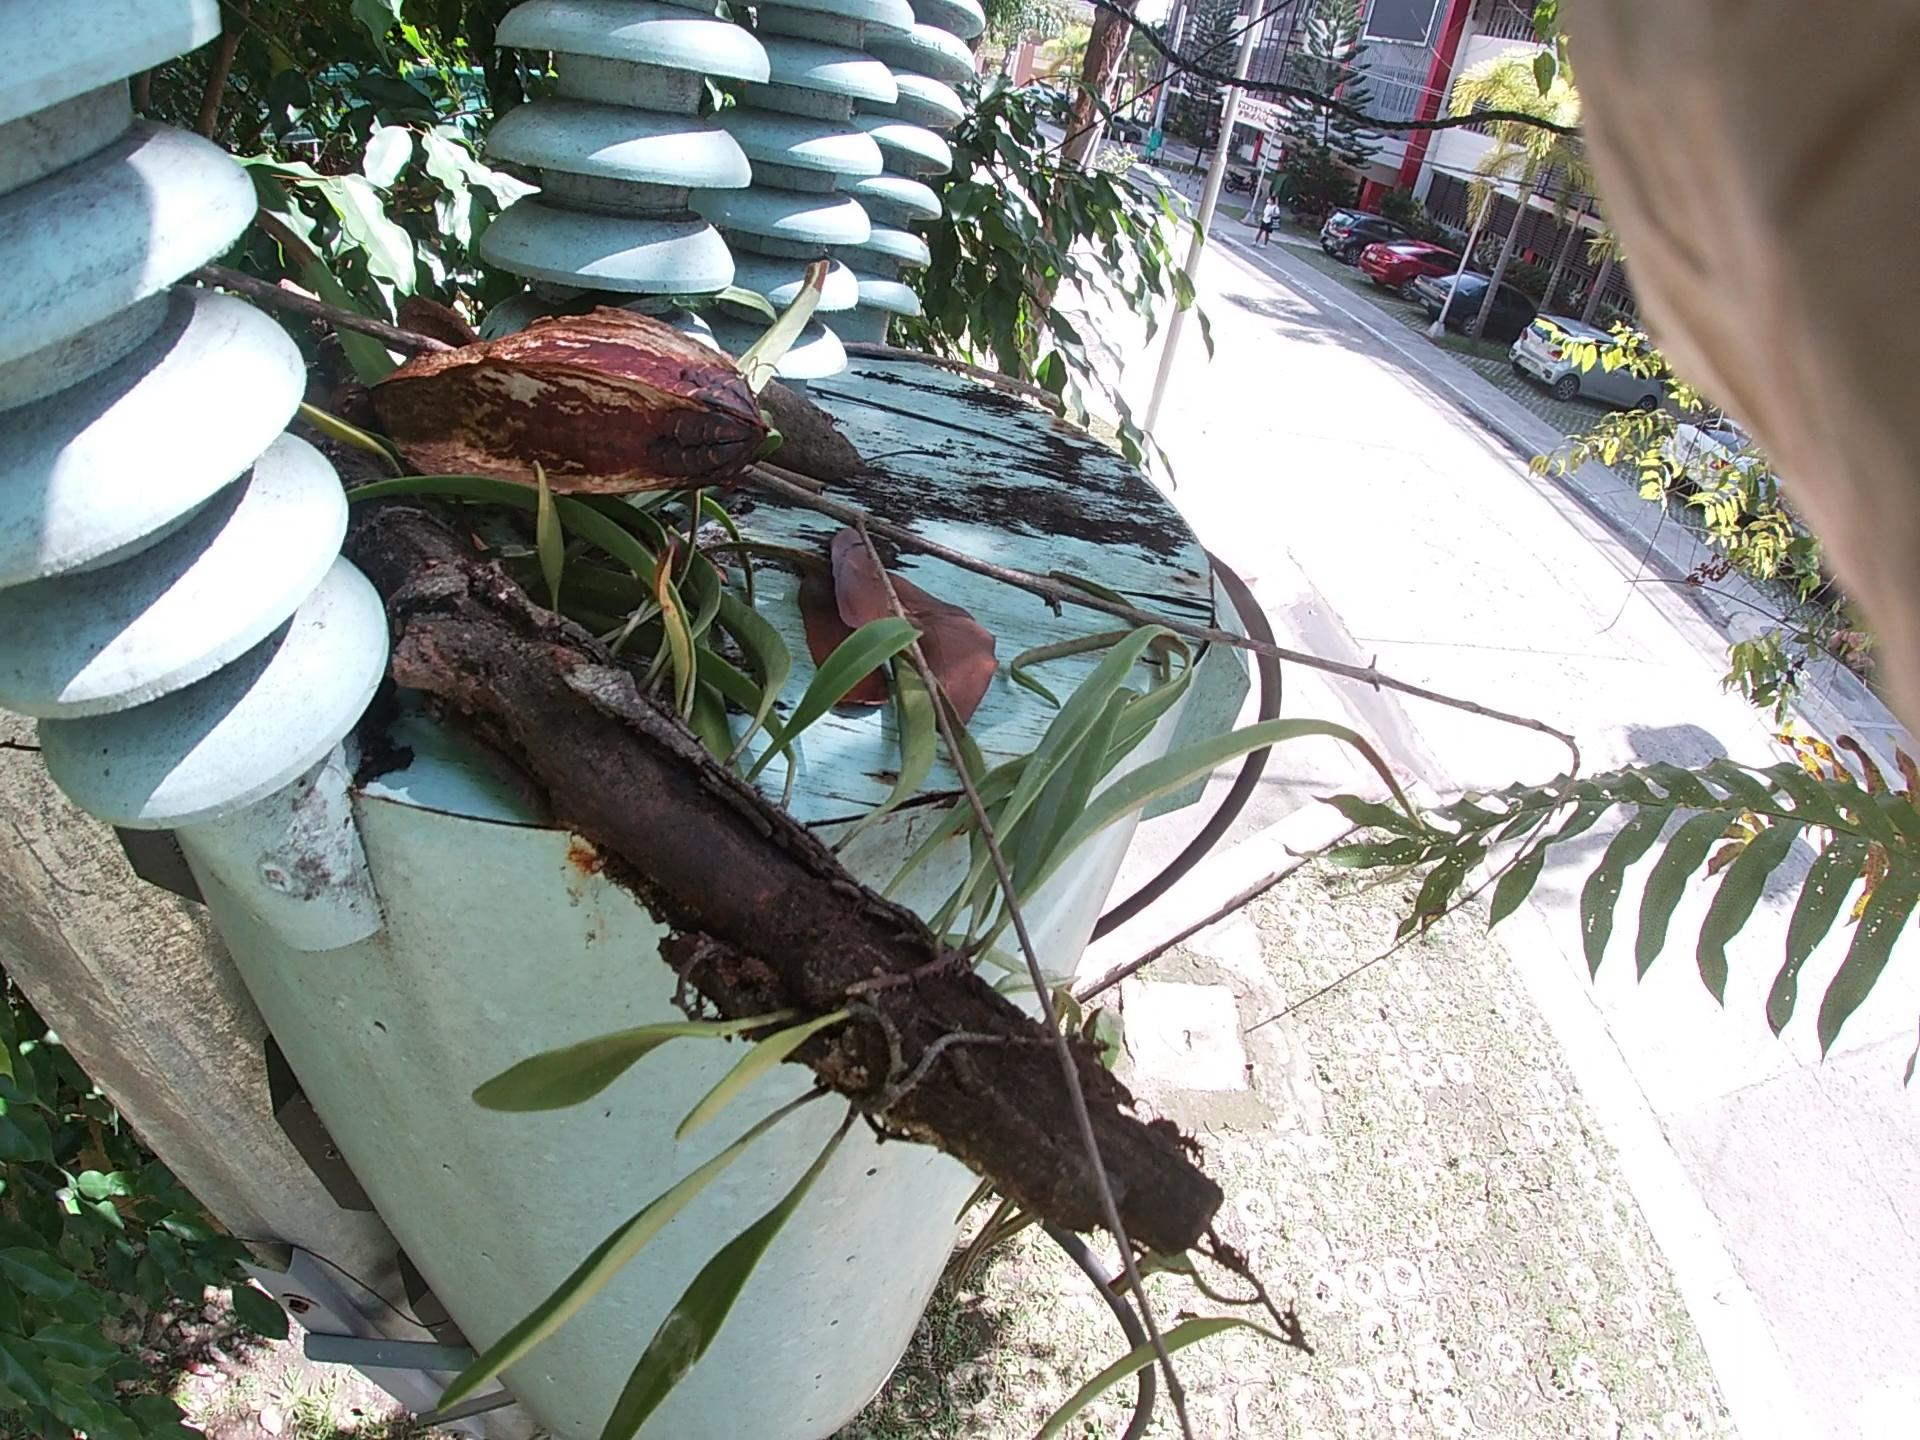branch with leaves: (305, 366, 1429, 1195)
leaf: (783, 498, 1092, 703)
mahogany fruit: (221, 237, 877, 579), (593, 250, 958, 594)
tree branch: (452, 313, 1652, 797), (754, 286, 1194, 511)
